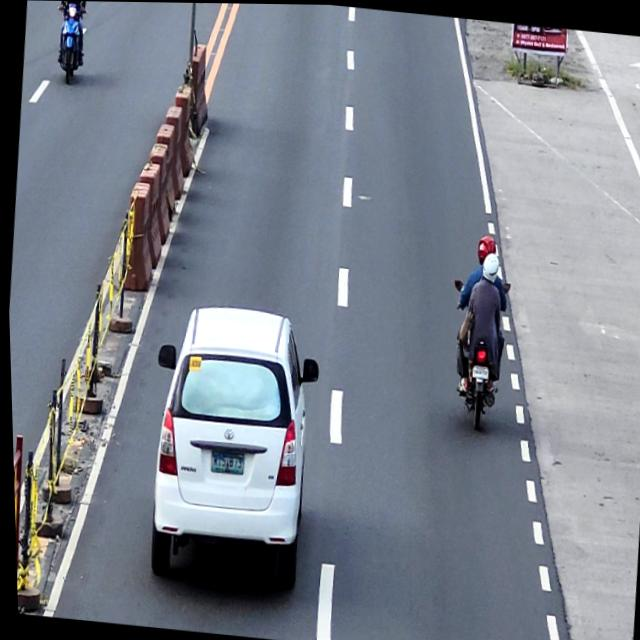Car: (134, 297, 326, 591)
License-Plate: (205, 446, 242, 474), (468, 361, 488, 379)
Motorcycle: (439, 276, 510, 432), (49, 1, 91, 85)
